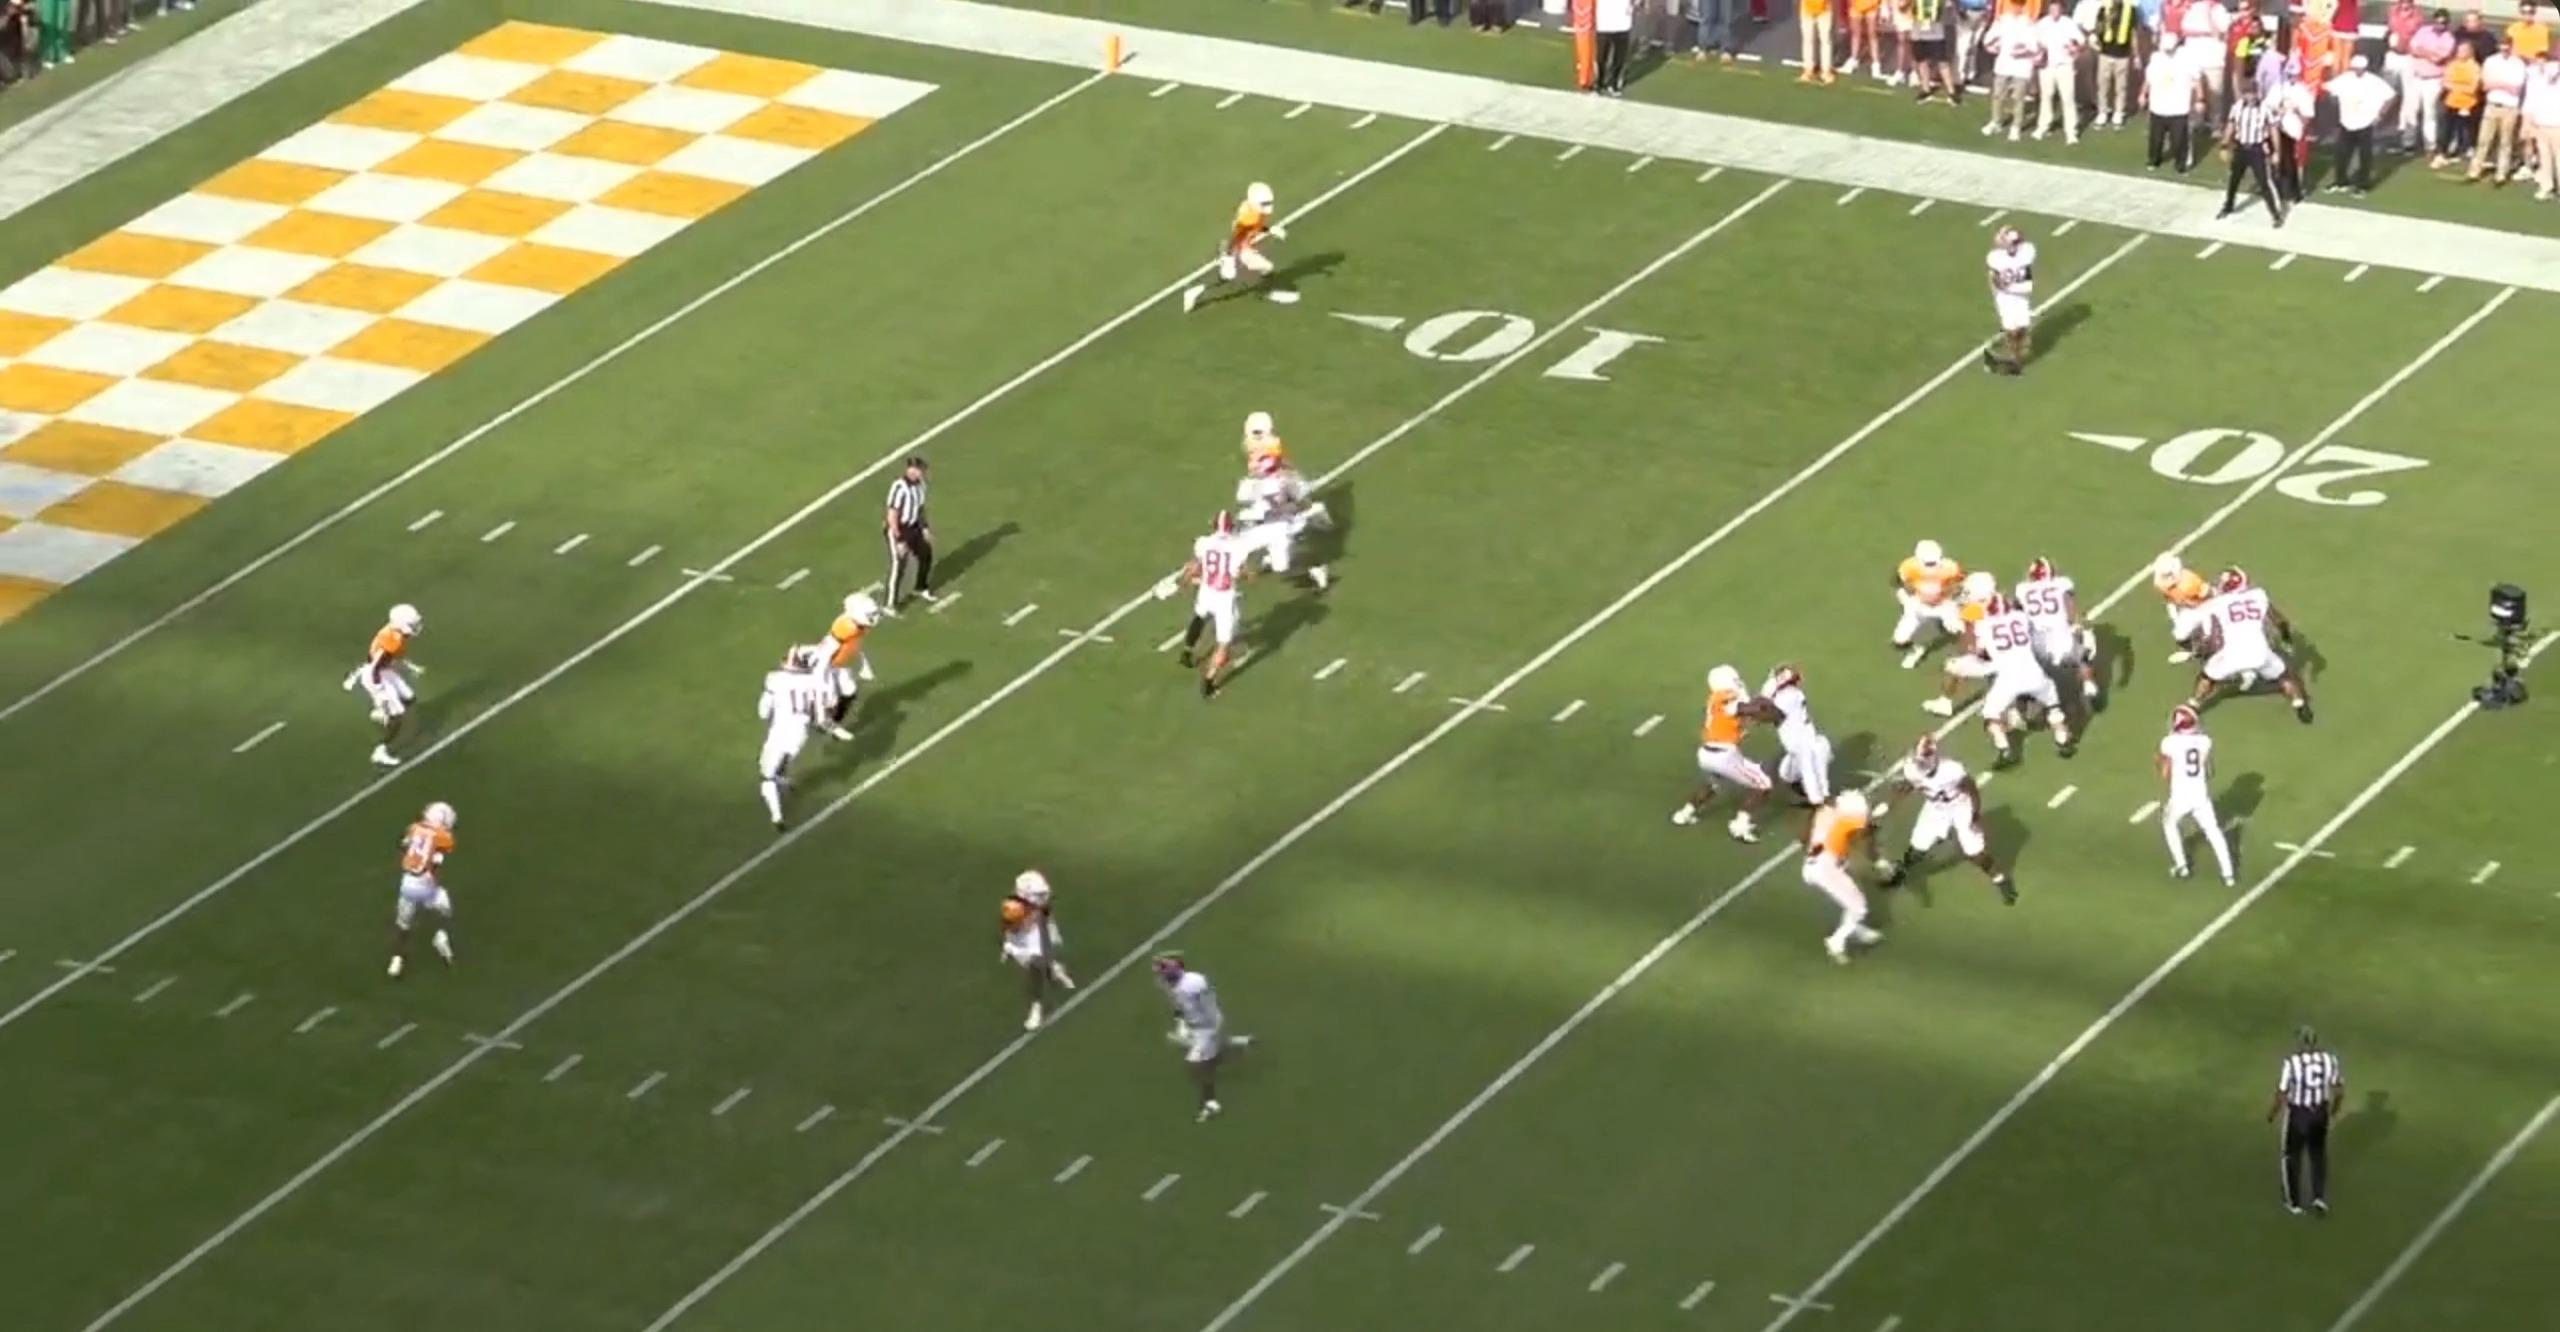defense: (1684, 661, 1779, 845), (352, 595, 442, 775), (1799, 780, 1888, 961), (984, 866, 1076, 1041), (385, 804, 470, 992), (1189, 170, 1297, 317), (1914, 566, 2012, 725), (1234, 408, 1341, 536), (813, 595, 891, 755), (1889, 533, 1973, 675), (2145, 556, 2215, 678)
oline: (1897, 735, 2028, 904), (1958, 591, 2076, 766), (2195, 570, 2318, 729), (2011, 553, 2102, 718), (1744, 665, 1828, 814)
qb: (2155, 703, 2251, 892)
ref: (2262, 1019, 2356, 1223), (2220, 75, 2305, 233), (884, 456, 951, 619)
skill: (1152, 945, 1263, 1131), (1230, 450, 1337, 598), (735, 655, 814, 842), (1176, 513, 1252, 698), (1978, 228, 2044, 386)
